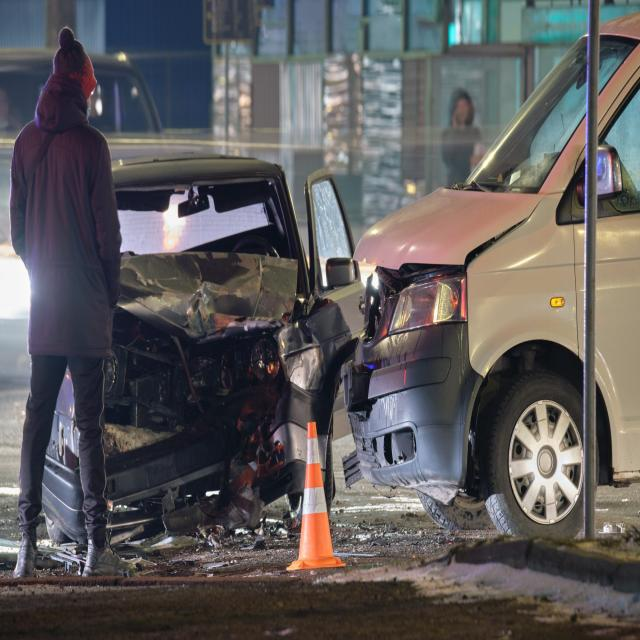Accident: (32, 6, 640, 558)
